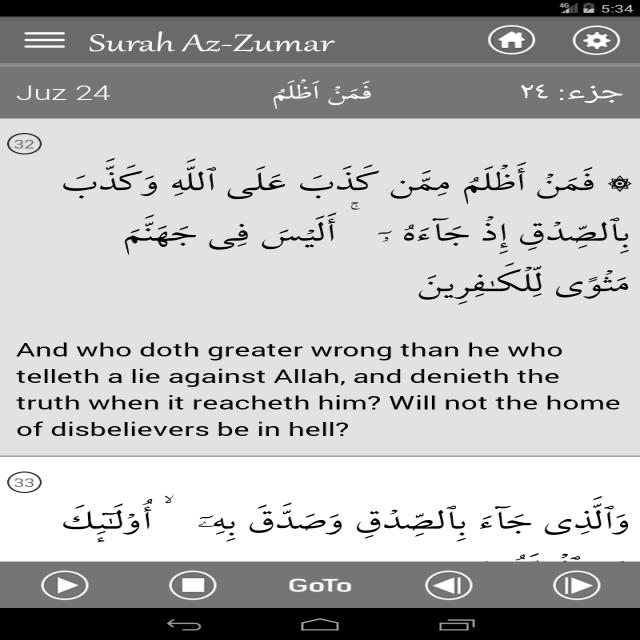ImageButton: (474, 20, 545, 56), (36, 567, 102, 599), (161, 568, 226, 600), (541, 568, 605, 600), (11, 23, 75, 51), (570, 23, 624, 55), (422, 568, 475, 600)
TextView: (49, 160, 625, 304), (12, 338, 626, 438), (70, 497, 620, 537), (247, 71, 388, 117), (92, 30, 338, 55)
